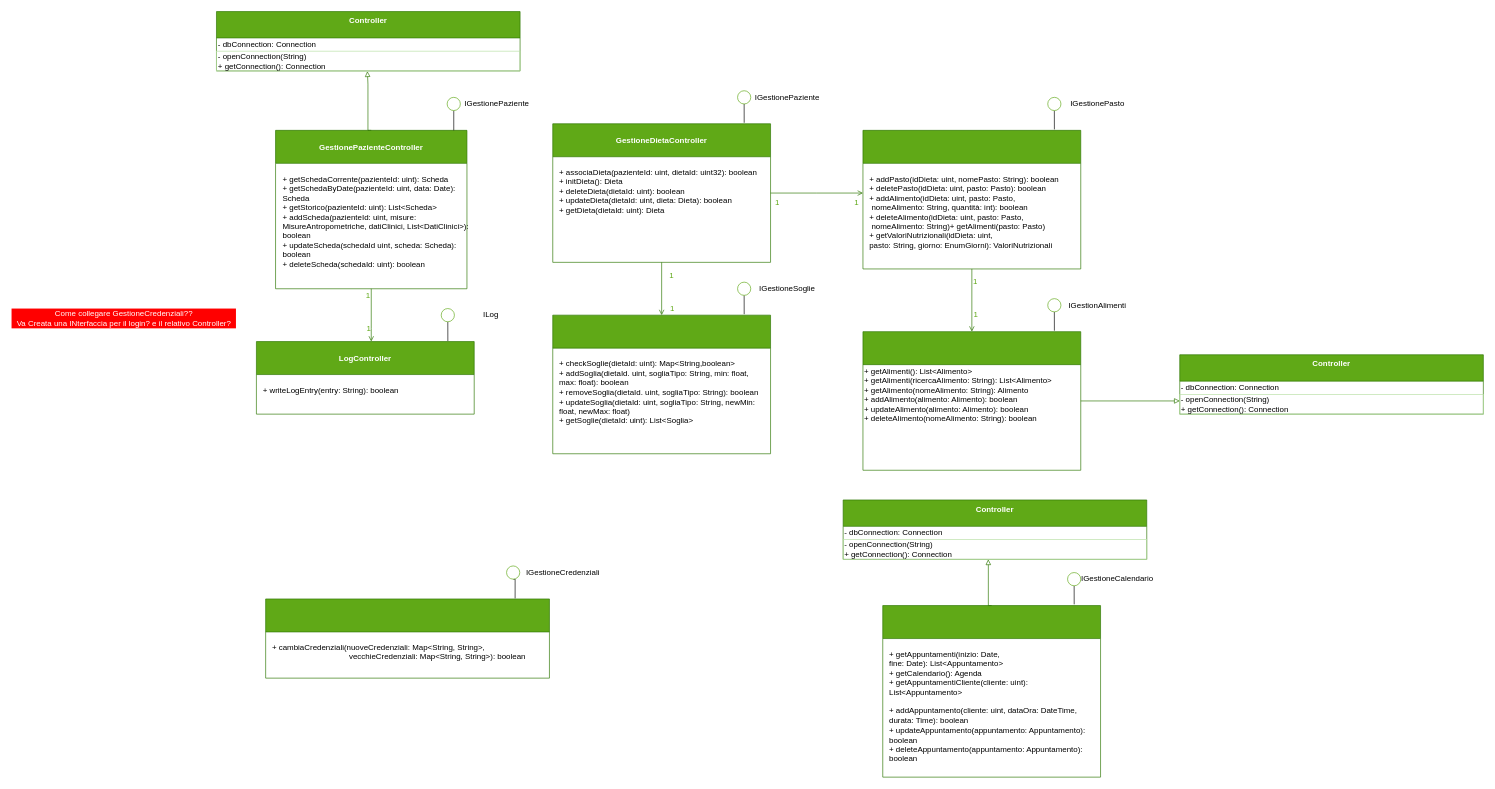
The diagram is 1495 pixels wide and 789 high, and some of its shapes have lost their labels. Each missing label, with the box of its shape:
GestioneAlimentiController: (862, 331, 1081, 470)
GestioneCalendarioController: (882, 605, 1101, 777)
GestioneCredenzialiController: (265, 598, 549, 678)
GestionePastoController: (862, 130, 1081, 269)
GestioneSoglieController: (552, 314, 771, 454)
